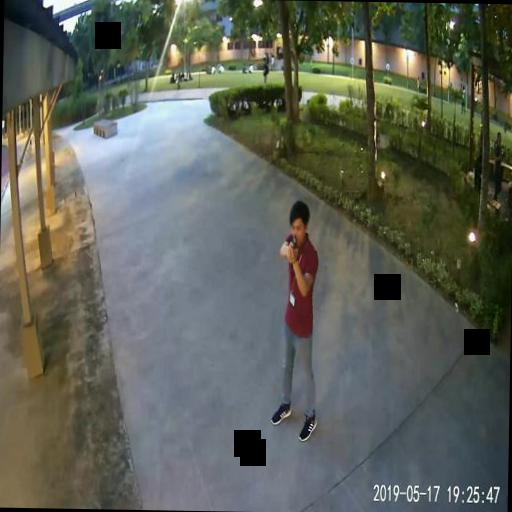Handgun: (289, 230, 296, 258)
